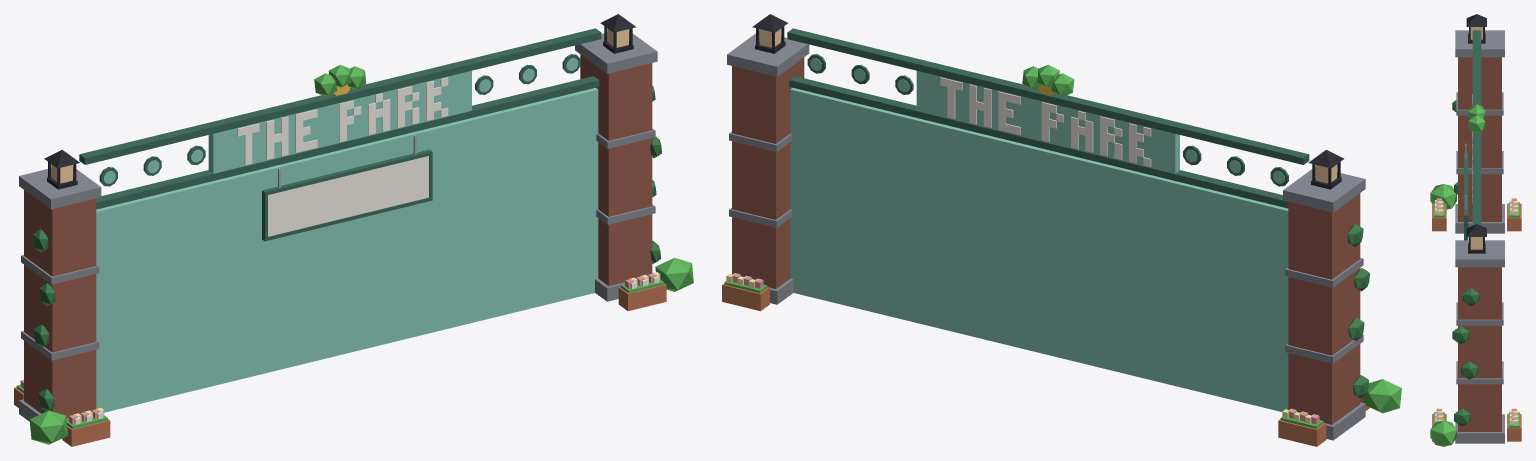
The model's file is CatCafe_Park_Gate.glb.
3 views of the same model, side by side, from view 1: azimuth 30°, elevation 25°; view 2: azimuth 150°, elevation 25°; view 3: azimuth 270°, elevation 25° (orthographic). The views are drawn at different scales.
Visible parts, largest first — view 1: CatCafe_Park_Gate_Bars, CatCafe_Park_Gate, CatCafe_Park_Gate_SignBoard, CatCafe_Park_Gate_Flowers; view 2: CatCafe_Park_Gate_Bars, CatCafe_Park_Gate, CatCafe_Park_Gate_Flowers; view 3: CatCafe_Park_Gate, CatCafe_Park_Gate_Flowers, CatCafe_Park_Gate_Lamp_Bulb.
Boxes of the visible parts, x1,y1,x2,y2 form: CatCafe_Park_Gate_Bars: [96, 87, 598, 412]; CatCafe_Park_Gate: [14, 14, 693, 446]; CatCafe_Park_Gate_SignBoard: [268, 156, 428, 236]; CatCafe_Park_Gate_Flowers: [16, 272, 663, 428]; CatCafe_Park_Gate_Bars: [790, 88, 1288, 411]; CatCafe_Park_Gate: [722, 14, 1401, 446]; CatCafe_Park_Gate_Flowers: [724, 273, 1323, 428]; CatCafe_Park_Gate: [1430, 14, 1521, 446]; CatCafe_Park_Gate_Flowers: [1433, 198, 1519, 427]; CatCafe_Park_Gate_Lamp_Bulb: [1470, 27, 1482, 249].
Size of the model in its own units: 40.95 by 17.1 by 6.32.
Materials: 1 (1 with a texture image).
